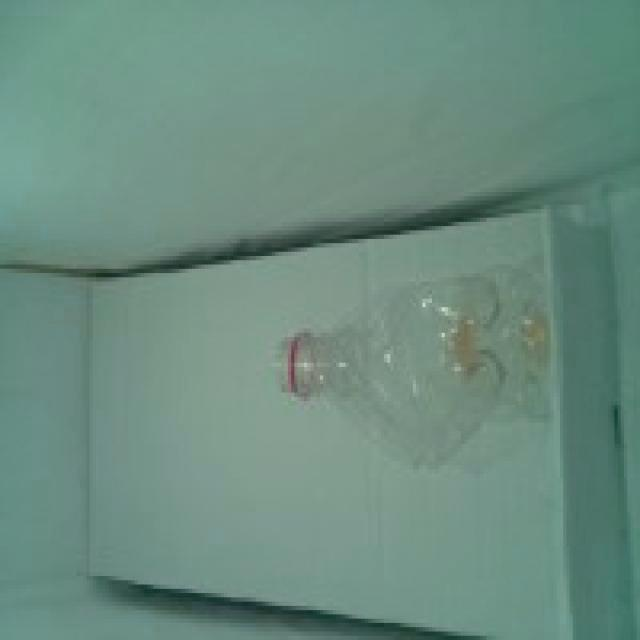bottle: (276, 266, 553, 468)
